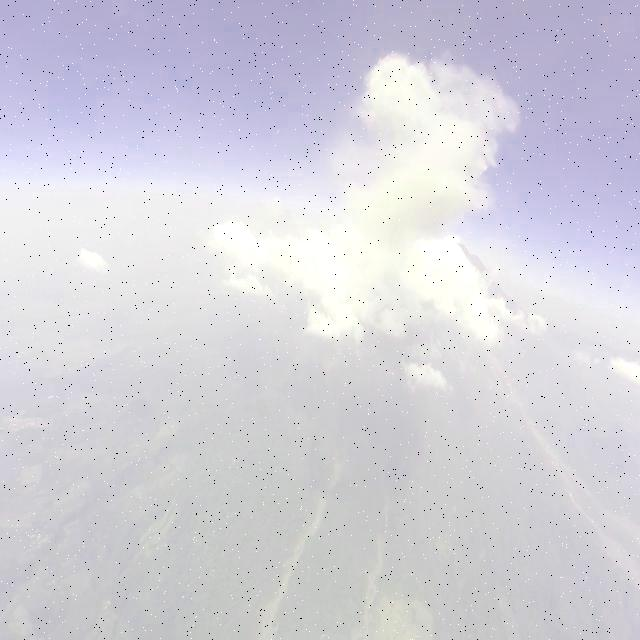Plume: (319, 35, 514, 304)
